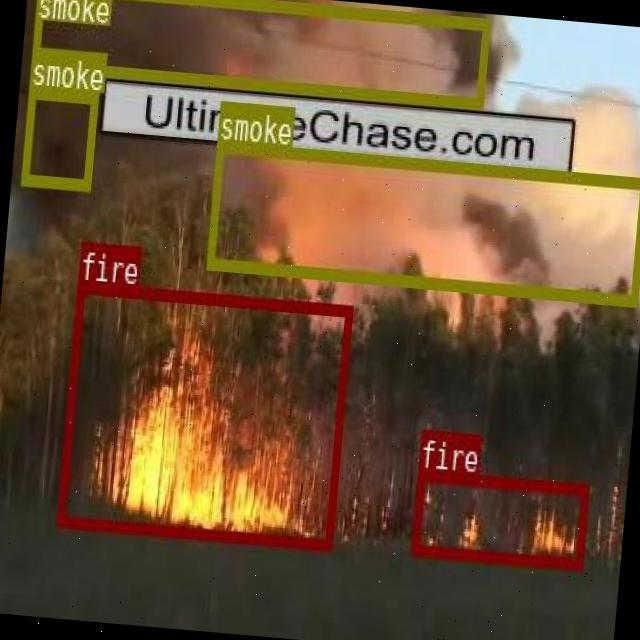fire: (56, 280, 352, 548), (409, 468, 588, 567)
smoke: (205, 139, 640, 303), (30, 0, 489, 106), (20, 84, 97, 188)
